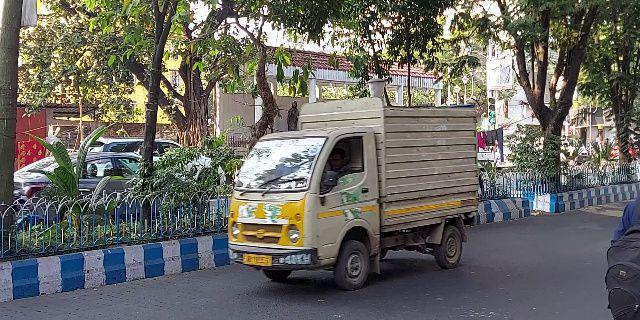Minitruck: (225, 94, 476, 288)
